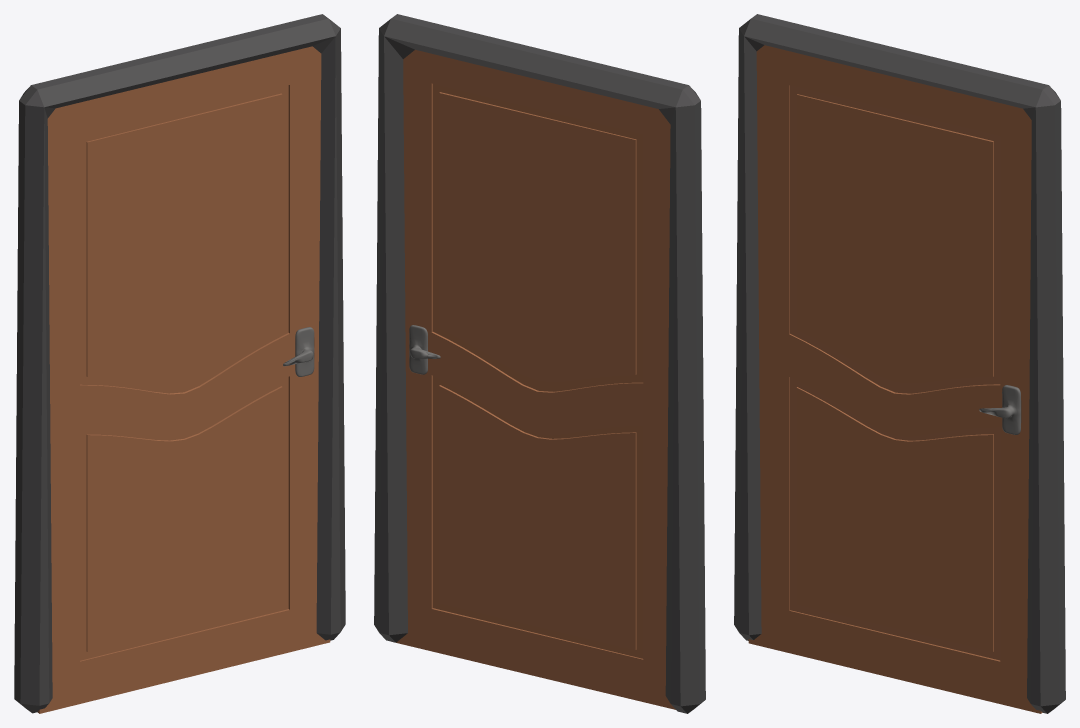
The model's file is Door2.fbx.
3 renders of one model, left to right at view 1: azimuth 30°, elevation 25°; view 2: azimuth 150°, elevation 25°; view 3: azimuth 330°, elevation 25°, orthographic.
Visible parts, largest first — view 1: Plane.002, Plane.001; view 2: Plane.002, Plane.001; view 3: Plane.002, Plane.001.
Boxes of the visible parts, x1=… form: Plane.002: x1=37, y1=46, x2=330, y2=713; Plane.001: x1=14, y1=14, x2=345, y2=713; Plane.002: x1=396, y1=49, x2=675, y2=709; Plane.001: x1=374, y1=14, x2=705, y2=713; Plane.002: x1=748, y1=45, x2=1042, y2=713; Plane.001: x1=734, y1=14, x2=1065, y2=713.
Size of the model in its own units: 223 by 408 by 27.24.
